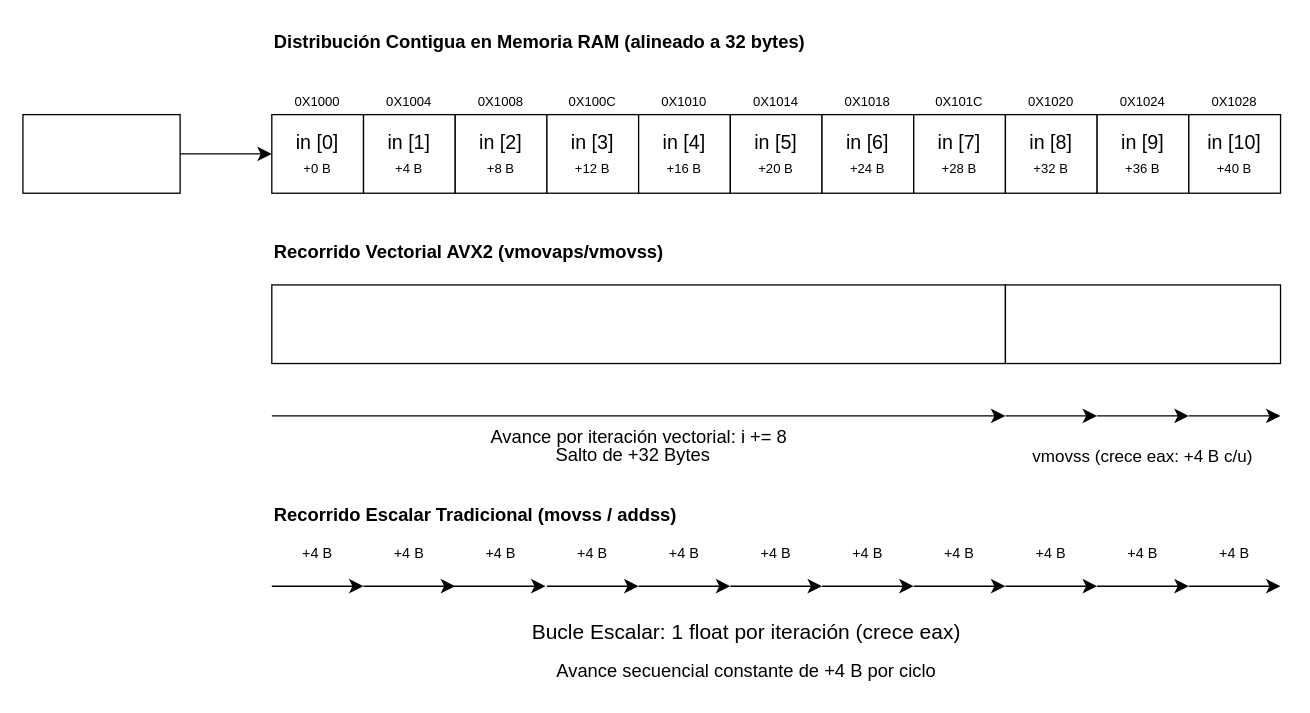
Image size: 1310x713. Some labels were removed from this diagram. Each missing label, with the centre of its shape:
Base in = 0x1000 Alineado a 32B: pixel 101 153
Cola Escalar N % 8 = 3: pixel 1142 324
Registro Vectorial YMM (256 bits = 32 bytes): pixel 638 324
